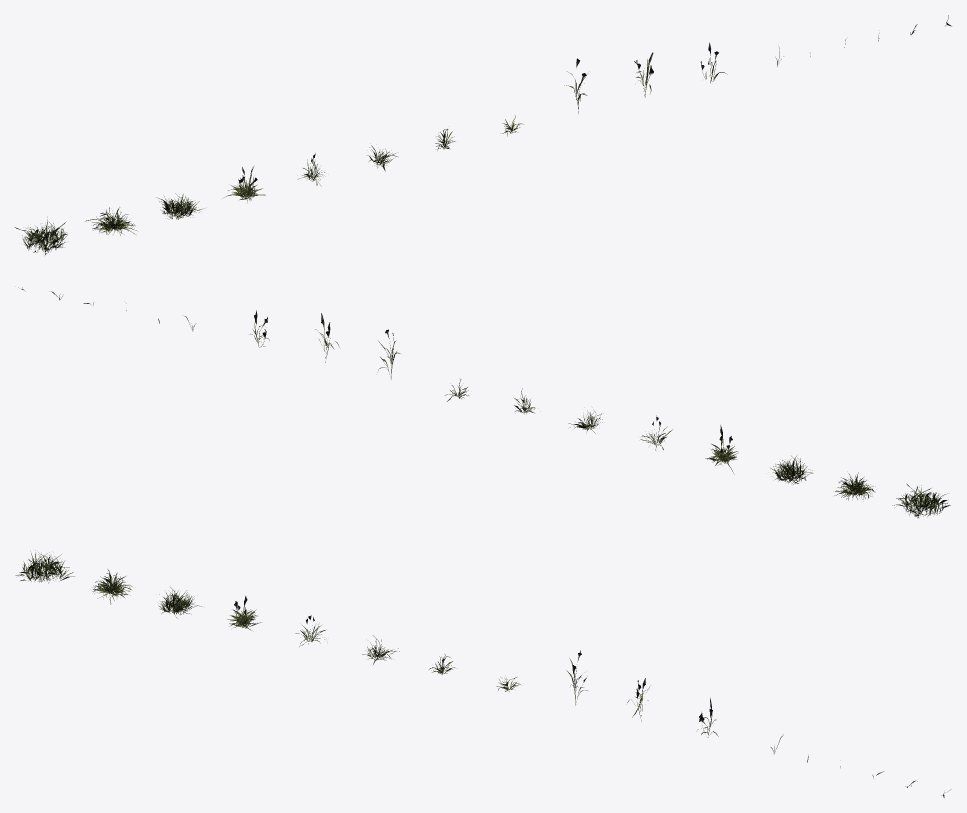
File: glb_grass.b4eb5cb8.glb
3 renders of one model, top to bottom at view 1: azimuth 30°, elevation 25°; view 2: azimuth 150°, elevation 25°; view 3: azimuth 330°, elevation 25°, orthographic.
Visible parts, largest first — view 1: grass_medium_01_small_a_LOD0; view 2: grass_medium_01_small_a_LOD0; view 3: grass_medium_01_small_a_LOD0.
Part boxes in pixels (<box>): grass_medium_01_small_a_LOD0: <box>14,15,951,254</box>; grass_medium_01_small_a_LOD0: <box>18,287,950,517</box>; grass_medium_01_small_a_LOD0: <box>15,550,950,797</box>.
Size of the model in its own units: 5.6 by 0.3389 by 0.3266.
Materials: 1 (1 with a texture image).
